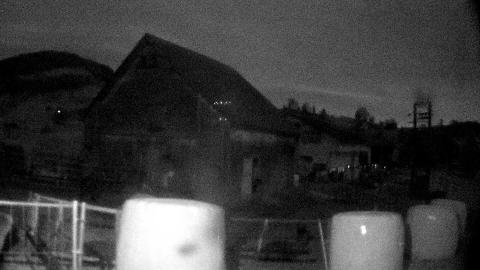sheep: (256, 224, 316, 264), (0, 210, 14, 258)
